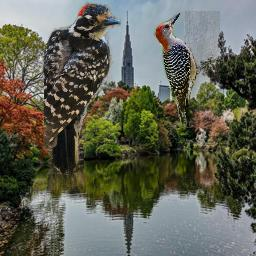Woodpecker: (44, 1, 121, 181), (151, 11, 220, 128)
